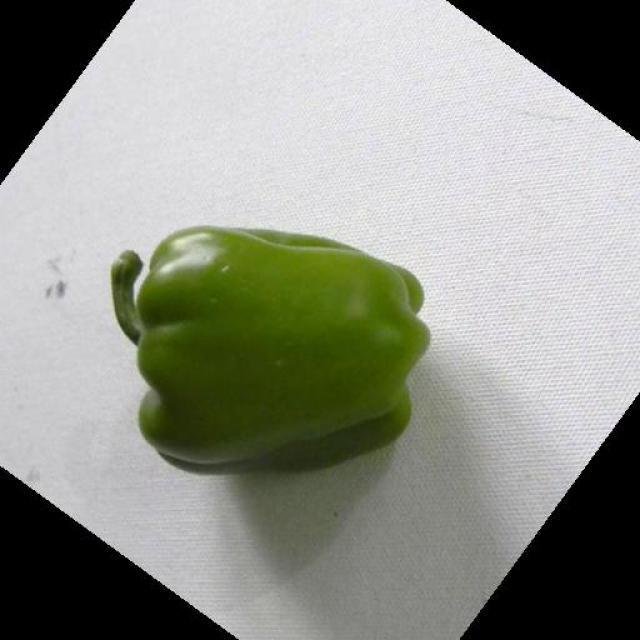Fresh_Capsicum: (135, 231, 442, 462)
